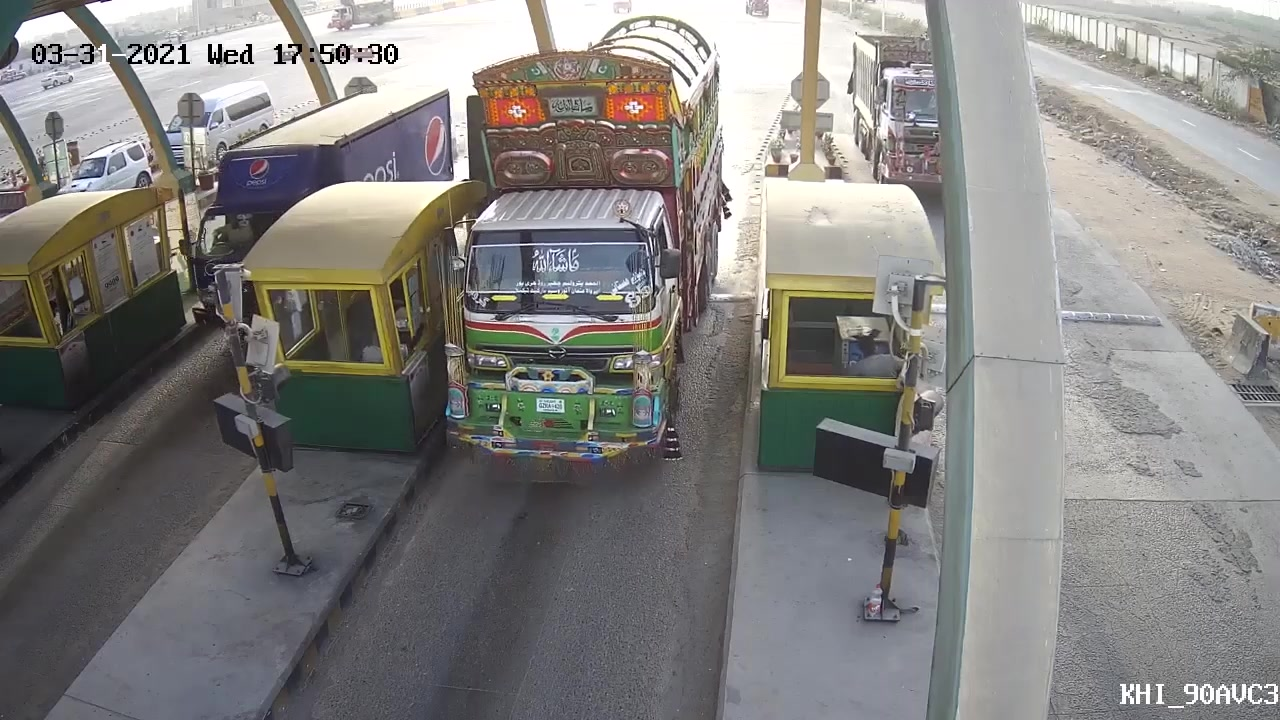F5: (426, 27, 726, 507)
